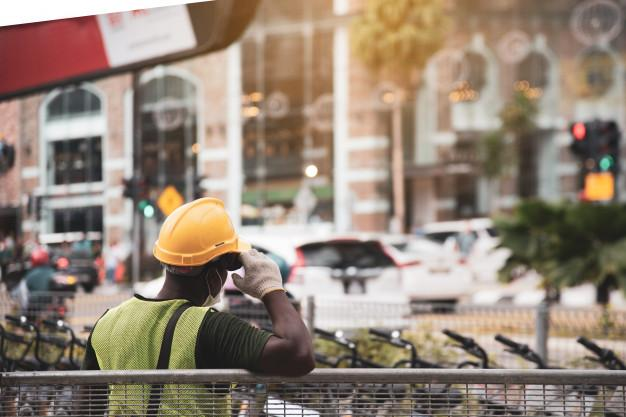helmet: (153, 196, 254, 271)
